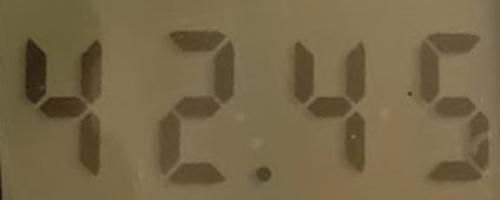.: (250, 160, 276, 186)
